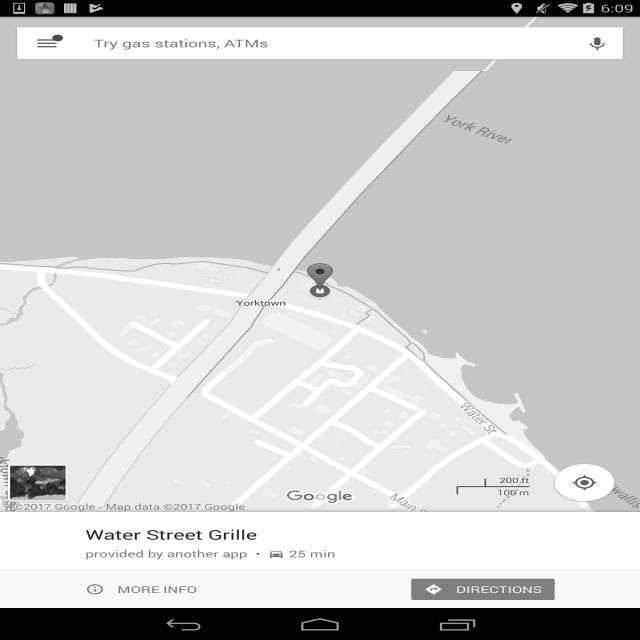Button: (10, 466, 66, 500)
EditText: (72, 27, 584, 59)
ImageButton: (572, 27, 623, 59)
ImageView: (550, 461, 619, 504), (10, 466, 66, 500), (285, 489, 355, 505), (34, 36, 60, 51), (424, 584, 443, 596), (86, 584, 104, 596), (268, 549, 285, 559)
TextView: (94, 27, 584, 59), (85, 526, 257, 544), (0, 501, 245, 512), (85, 548, 248, 560), (443, 583, 555, 596), (104, 583, 197, 596), (289, 548, 336, 560), (248, 548, 268, 560)
